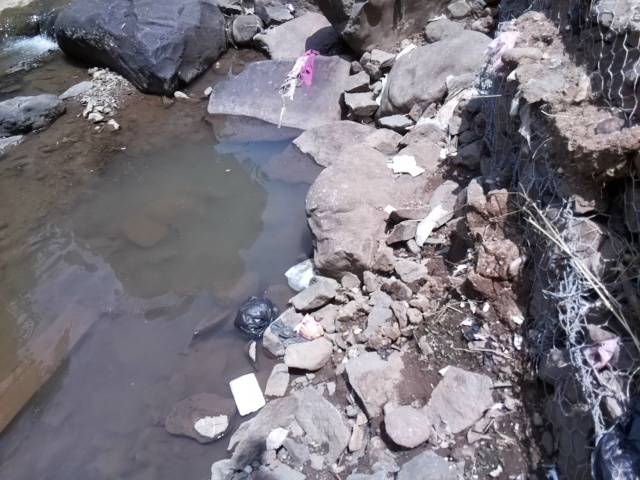Sampah_Plastik: (230, 291, 278, 338), (284, 47, 315, 105), (284, 258, 322, 292)
Sampah_Styrofoam: (225, 371, 271, 415), (386, 151, 429, 178)
